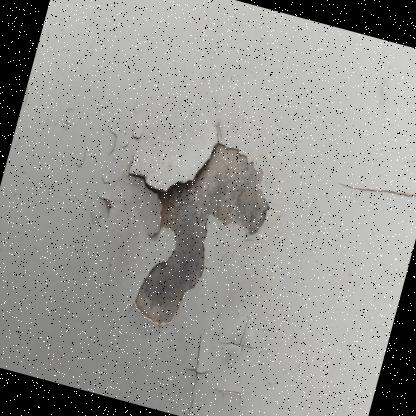Crack: (32, 72, 308, 384), (168, 306, 270, 415), (345, 122, 415, 237), (19, 36, 54, 114), (372, 306, 396, 374)
